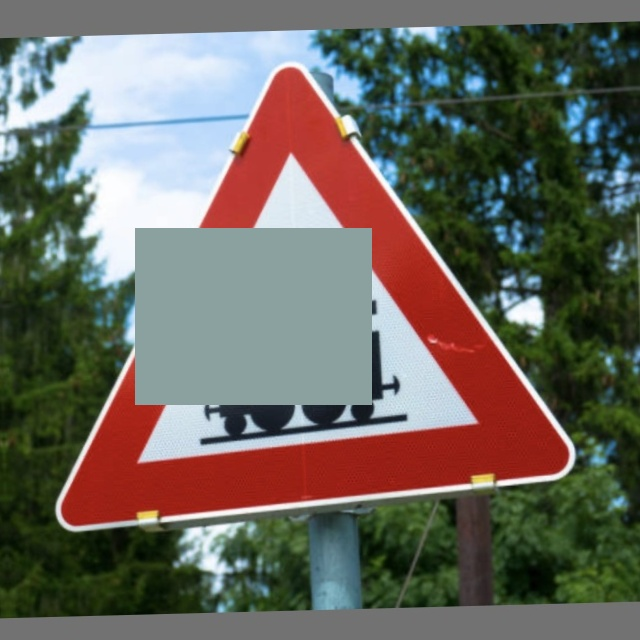Unguarded_Level_Crossing: (63, 59, 564, 518)
